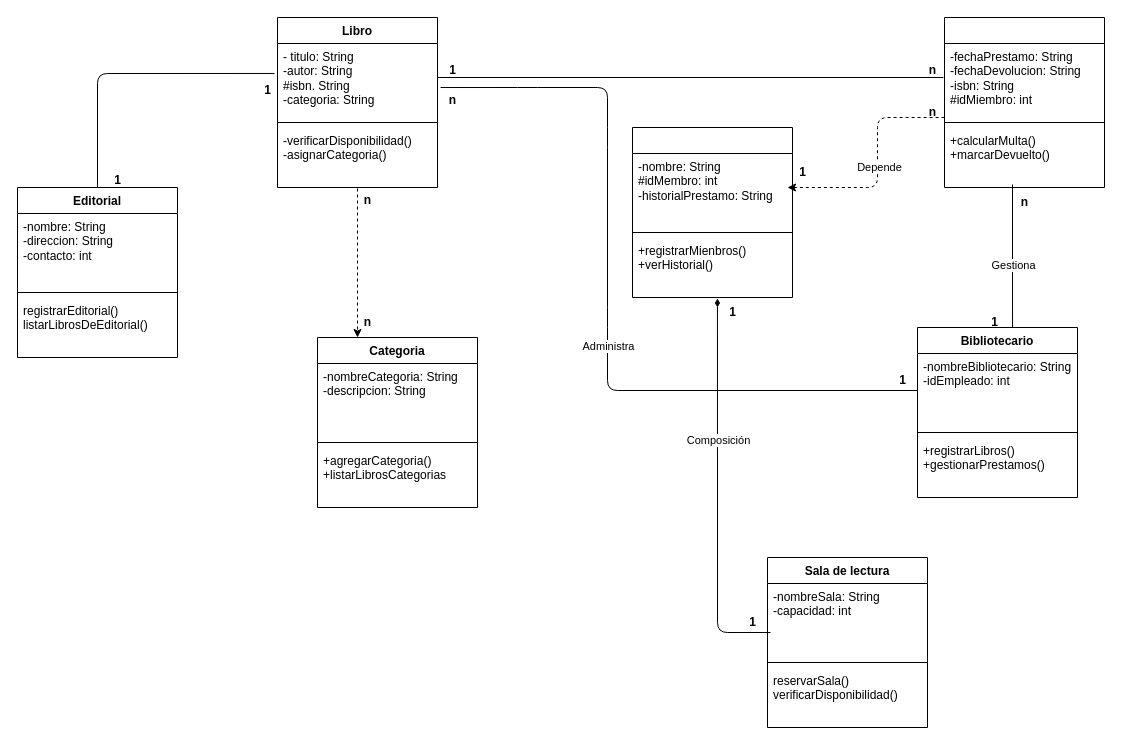
This 1122x748 diagram has some shape labels left out. Each missing label, with the box of its shape:
Miembro: (632, 126, 792, 298)
Préstamo: (944, 16, 1104, 188)
